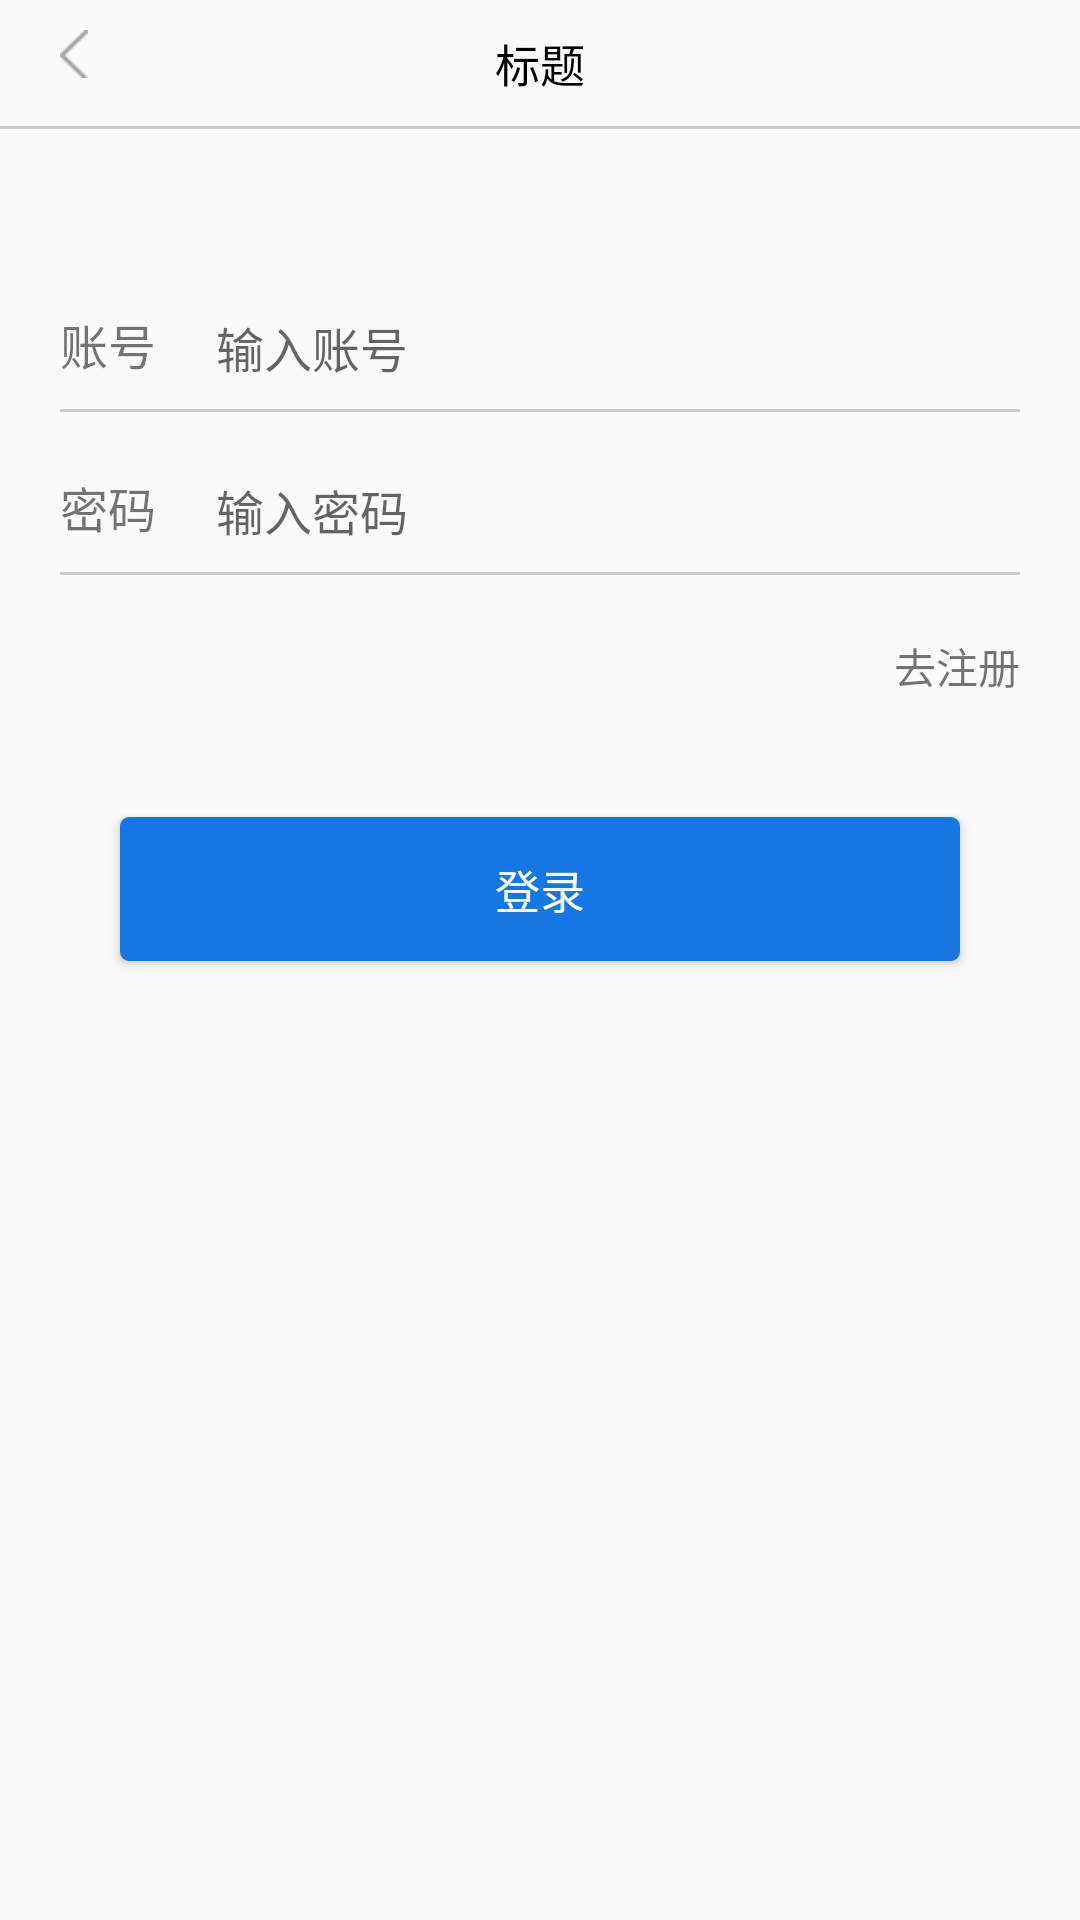

Locate icon controls on the screen. Image size 1080 x 1920, boxes as bbox=[x1, y1, x2, y2].
back: bbox=[60, 30, 88, 78]
